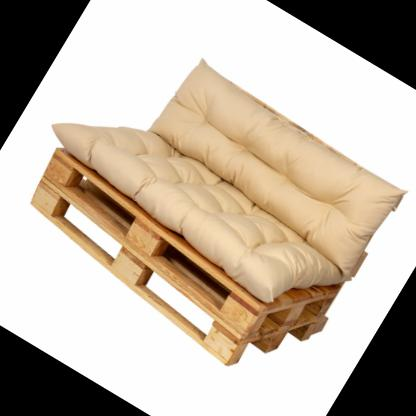BoxFace: (40, 148, 340, 343), (28, 180, 333, 367)
